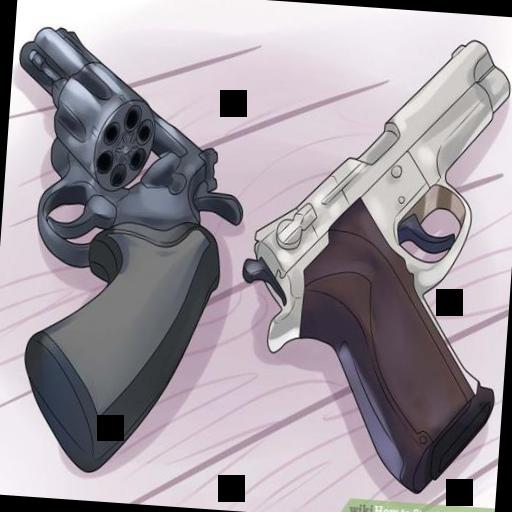Handgun: (227, 25, 512, 502), (0, 24, 263, 491)
